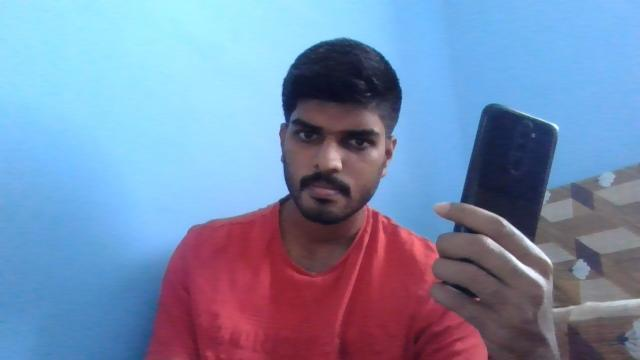PhoneUse: (446, 101, 560, 307)
SafeDriving: (288, 121, 327, 148), (337, 130, 379, 152)
